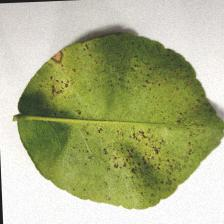canker: (34, 38, 184, 180)
